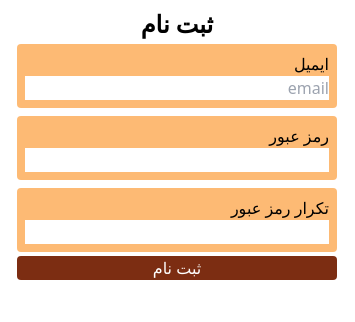
Test: Register page › Handle errors and navigation › Should show email error when intering invalid email
Expected: the text "ایمیل معتر نیست" is not shown
Type "abc.com" into the field labelled "ایمیل".
click(177, 88); type("abc.com")  # box [25,76,329,100]
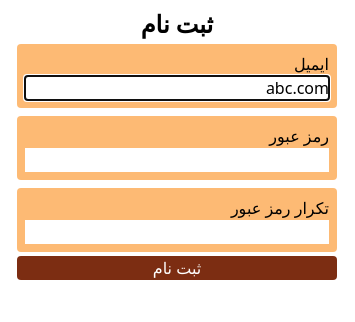
Type "12345" into the password field labelled "رمز عبور".
click(177, 160); type("12345")  # box [25,148,329,172]
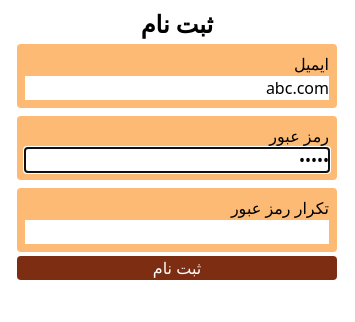
Type "12345" into the field labelled "تکرار رمز عبور".
click(177, 232); type("12345")  # box [25,220,329,244]
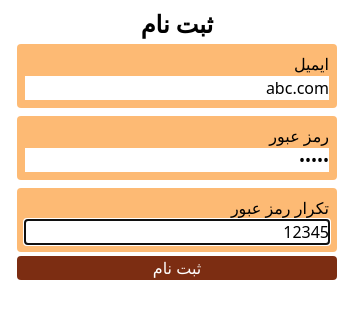
Click the button "ثبت نام".
click(177, 268)  # box [17,256,337,280]
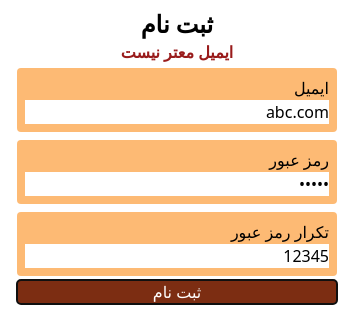
Expected: the text "ایمیل معتر نیست" is shown, [121,40,233,64]
